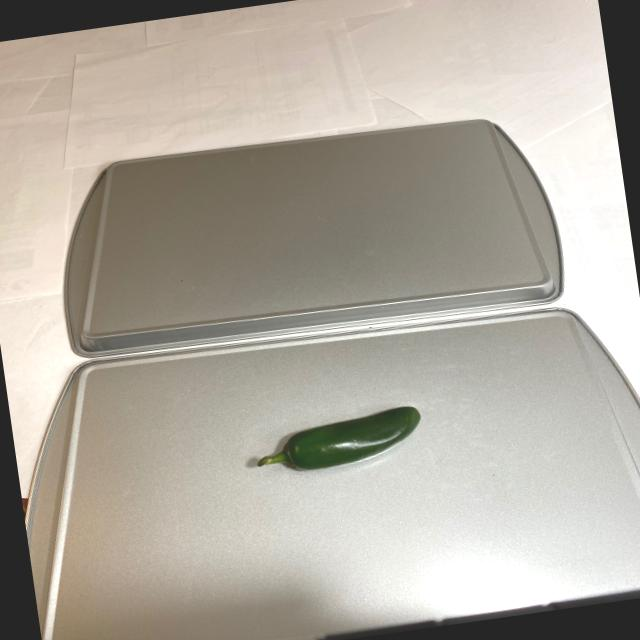chilli: (226, 392, 439, 486)
